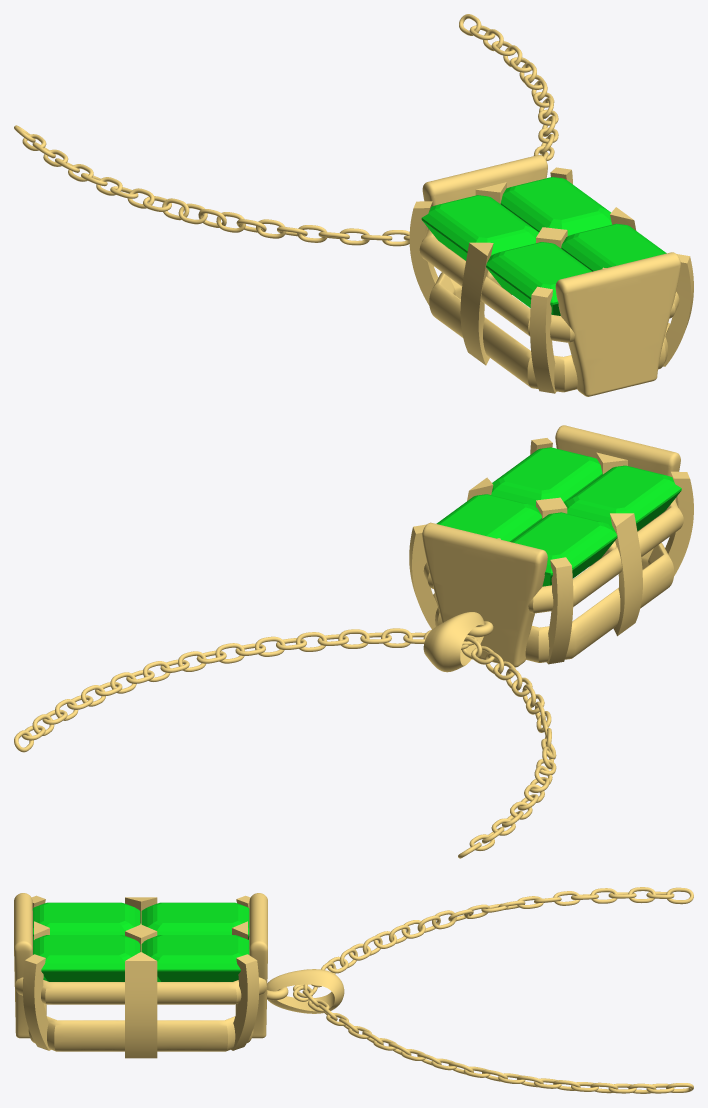
File: PeterLnewYGpendant_blender.glb
3 renders of one model, top to bottom at view 1: azimuth 30°, elevation 25°; view 2: azimuth 150°, elevation 25°; view 3: azimuth 270°, elevation 25°, orthographic. The views are drawn at different scales.
Visible parts, largest first — view 1: new Peter YG for 3d model, new Peter emerald for 3d model.003, new Peter emerald for 3d model.002, new Peter emerald for 3d model, new Peter emerald for 3d model.001; view 2: new Peter YG for 3d model, new Peter emerald for 3d model, new Peter emerald for 3d model.001, new Peter emerald for 3d model.003, new Peter emerald for 3d model.002; view 3: new Peter YG for 3d model, new Peter emerald for 3d model.002, new Peter emerald for 3d model.001, new Peter emerald for 3d model.003, new Peter emerald for 3d model.
Part boxes in pixels (box(x1,y1,x2,y2)): new Peter YG for 3d model: box(14, 14, 693, 396); new Peter emerald for 3d model.003: box(421, 195, 538, 260); new Peter emerald for 3d model.002: box(500, 177, 611, 235); new Peter emerald for 3d model: box(486, 242, 591, 315); new Peter emerald for 3d model.001: box(561, 223, 666, 271); new Peter YG for 3d model: box(14, 425, 693, 858); new Peter emerald for 3d model: box(564, 465, 681, 531); new Peter emerald for 3d model.001: box(491, 447, 602, 506); new Peter emerald for 3d model.003: box(511, 512, 617, 586); new Peter emerald for 3d model.002: box(436, 494, 542, 541); new Peter YG for 3d model: box(14, 887, 693, 1093); new Peter emerald for 3d model.002: box(141, 935, 249, 981); new Peter emerald for 3d model.001: box(33, 935, 140, 981); new Peter emerald for 3d model.003: box(141, 902, 249, 939); new Peter emerald for 3d model: box(32, 902, 140, 939).
Size of the model in its own units: 25.53 by 6.44 by 36.47.
